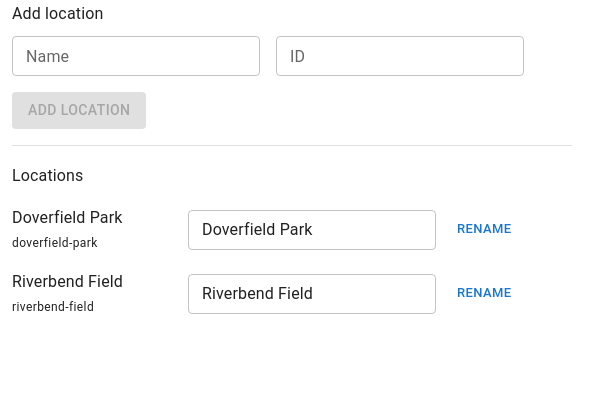
Test: ManageLocations › adds a location by posting the slugified id and name
Expected: the text "Doverfield Park" is shown, [12,208,122,226]
Type "Sunny Meadows" into the field labelled "Name".
click(136, 56); type("Sunny Meadows")  # box [12,36,260,76]
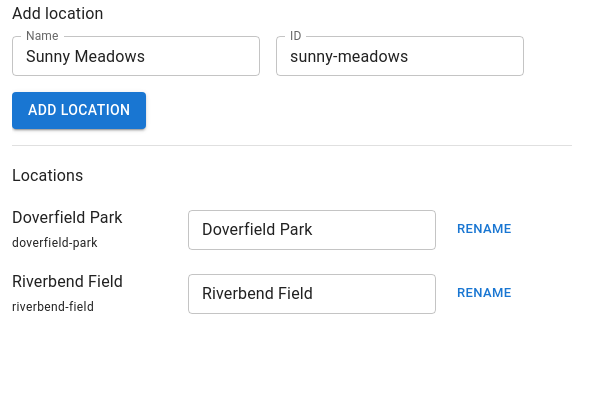
Now the field labelled "ID" holds "sunny-meadows", box [276,36,524,76]
Click the button "Add location".
click(79, 110)  # box [12,92,146,128]
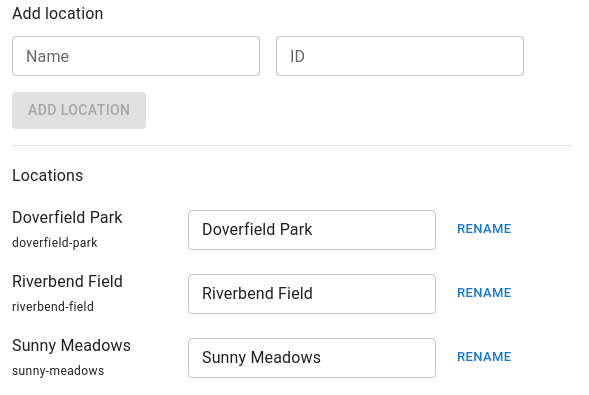
Now the text "Sunny Meadows" is shown, box [12,336,131,354]
